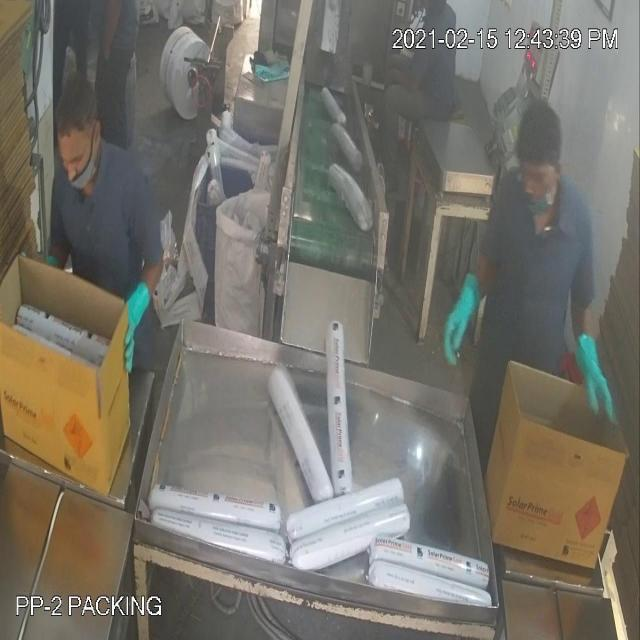Gloves: (48, 44, 594, 384)
